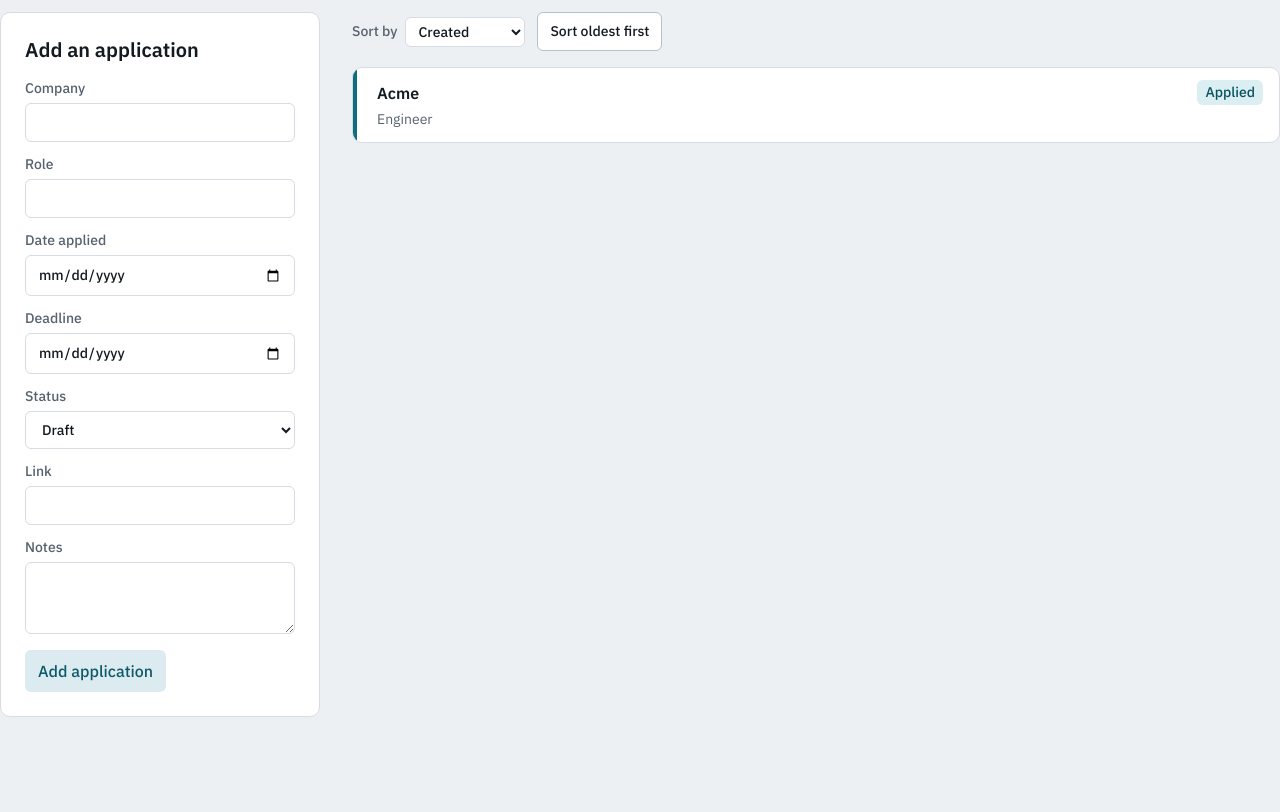
a successful add shows a success toast
Expected: the button "Acme Engineer Applied" is shown, [377,80,1263,130]
In the field labelled "Company": (160, 122) [25,103,295,142], type "Globex"
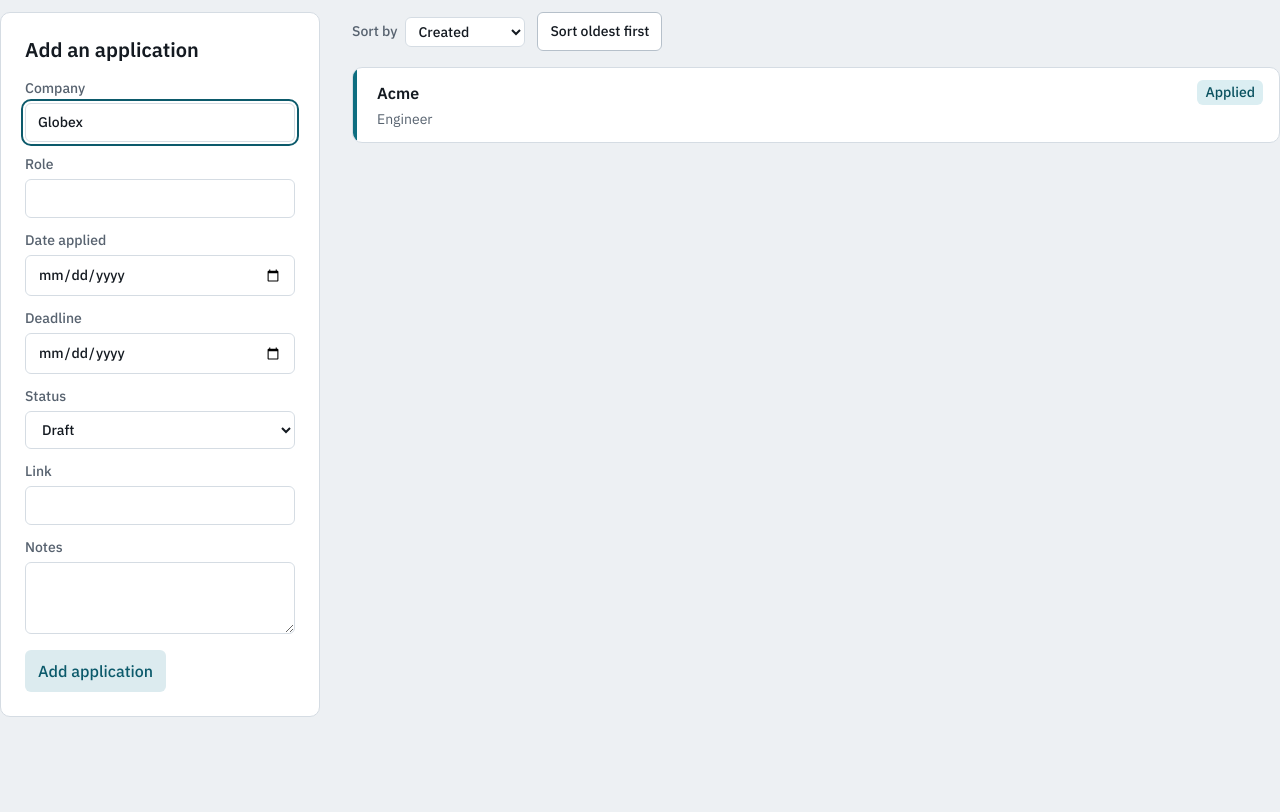
In the field labelled "Role": (160, 198) [25,179,295,218], type "Engineer"
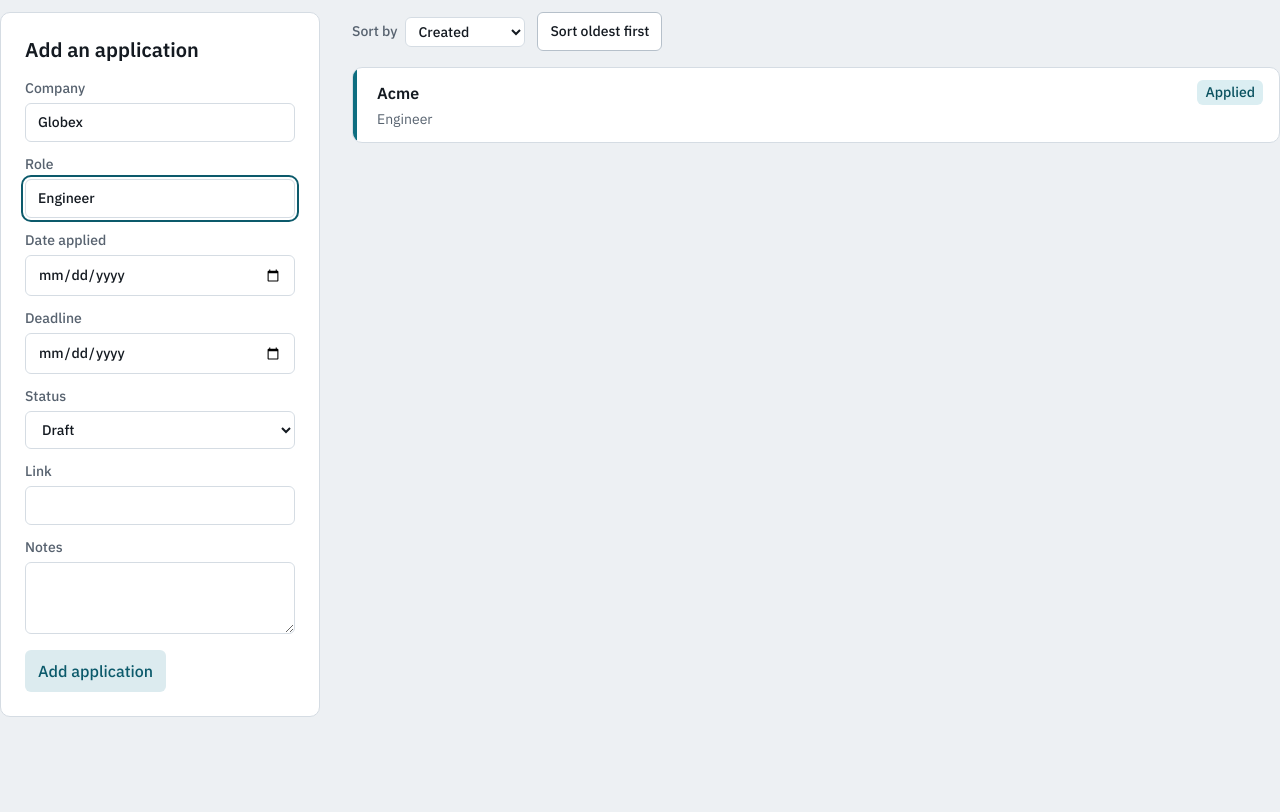
Click the button "Add application": (96, 671) [25,650,166,692]
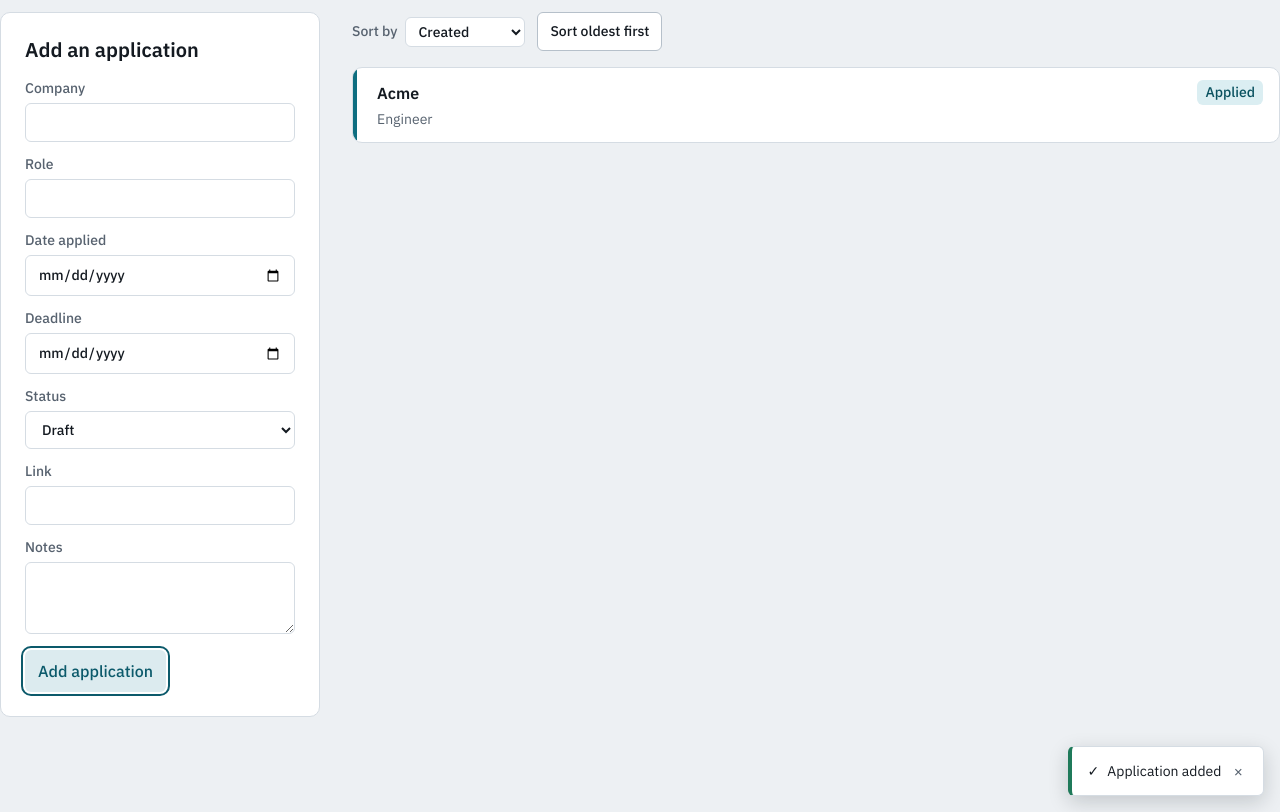
Expected: the text "Application added" is shown, [1107,760,1221,782]
